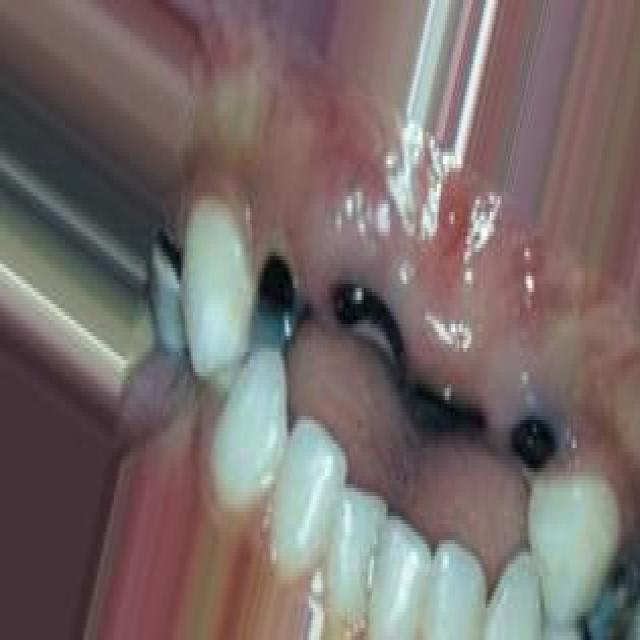caries: (329, 266, 410, 370), (245, 236, 307, 367), (408, 368, 496, 452), (508, 394, 566, 490), (149, 212, 188, 303)
